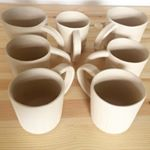cups: (6, 60, 77, 138), (76, 63, 147, 135), (2, 4, 66, 51), (4, 33, 73, 76), (92, 5, 149, 51), (85, 36, 150, 72), (54, 10, 92, 66)
